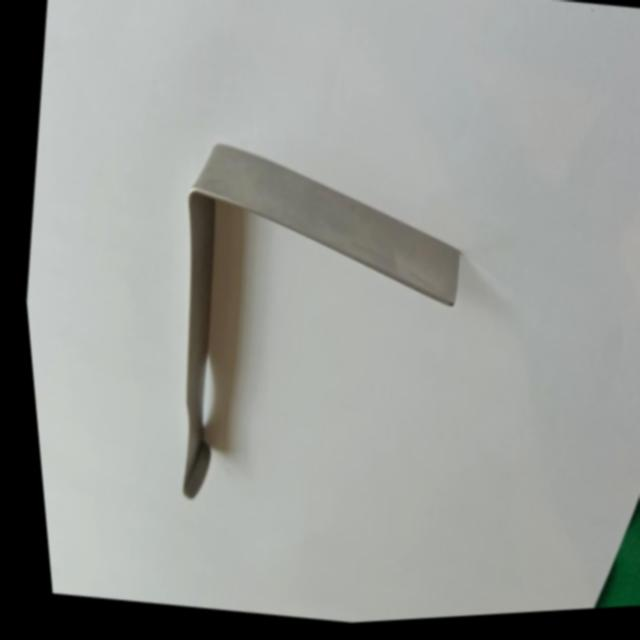AustinRetractor: (121, 119, 495, 557)
